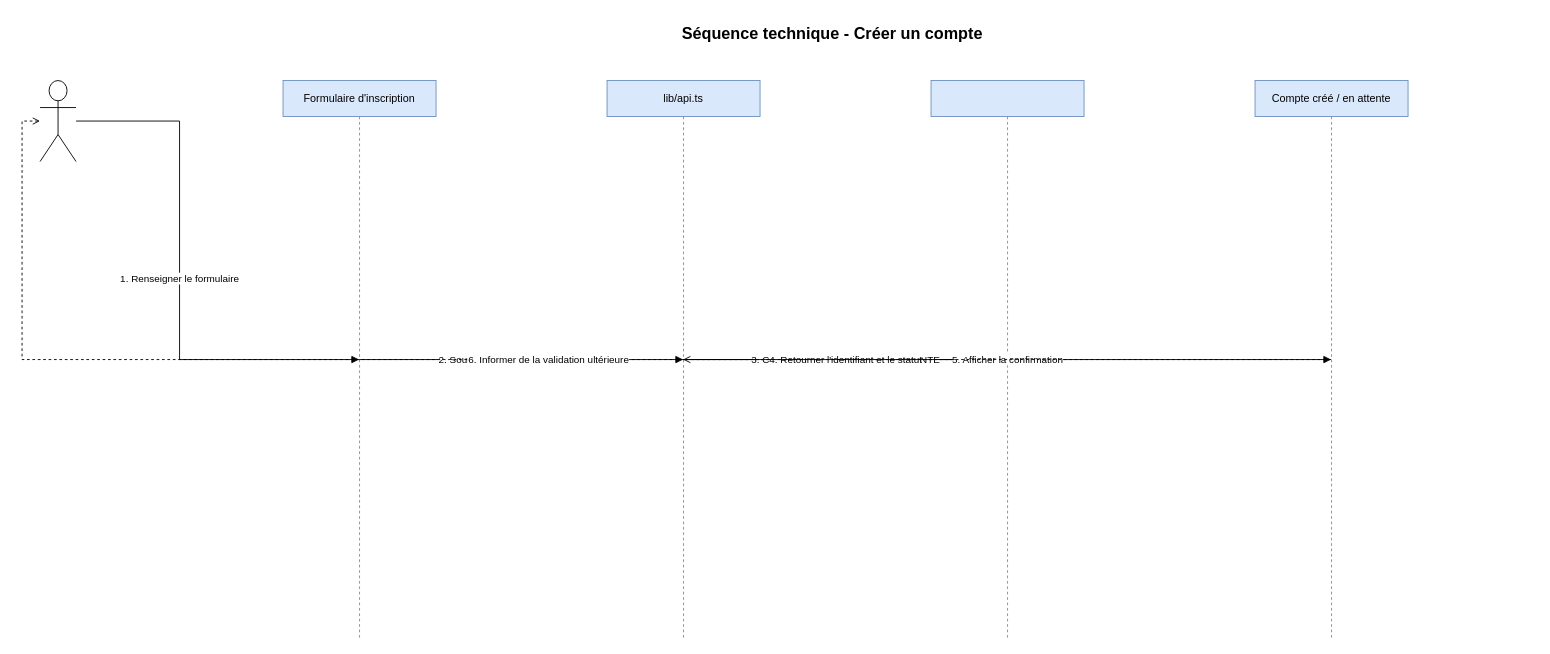
Image size: 1550x654. Some labels were removed from this diagram. Each missing label, with the box of its shape:
demoStorage.ts: (930, 80, 1084, 639)
Peintre vérifié: (39, 80, 76, 162)
